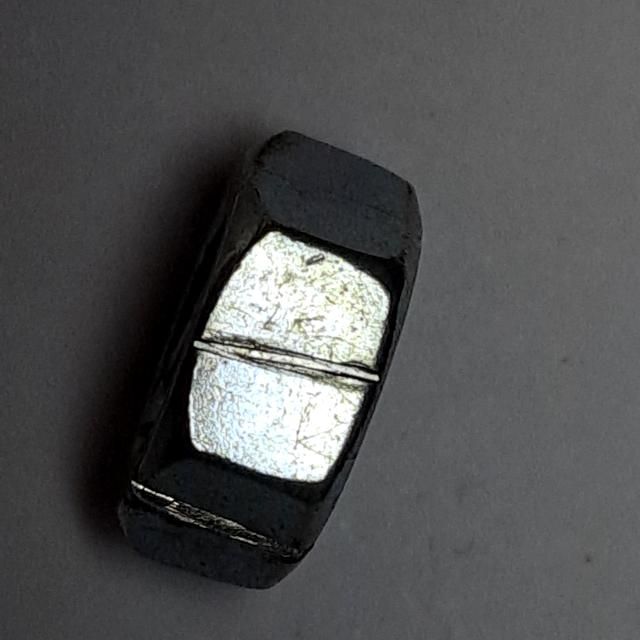Side_Scratches: (100, 111, 438, 612)
